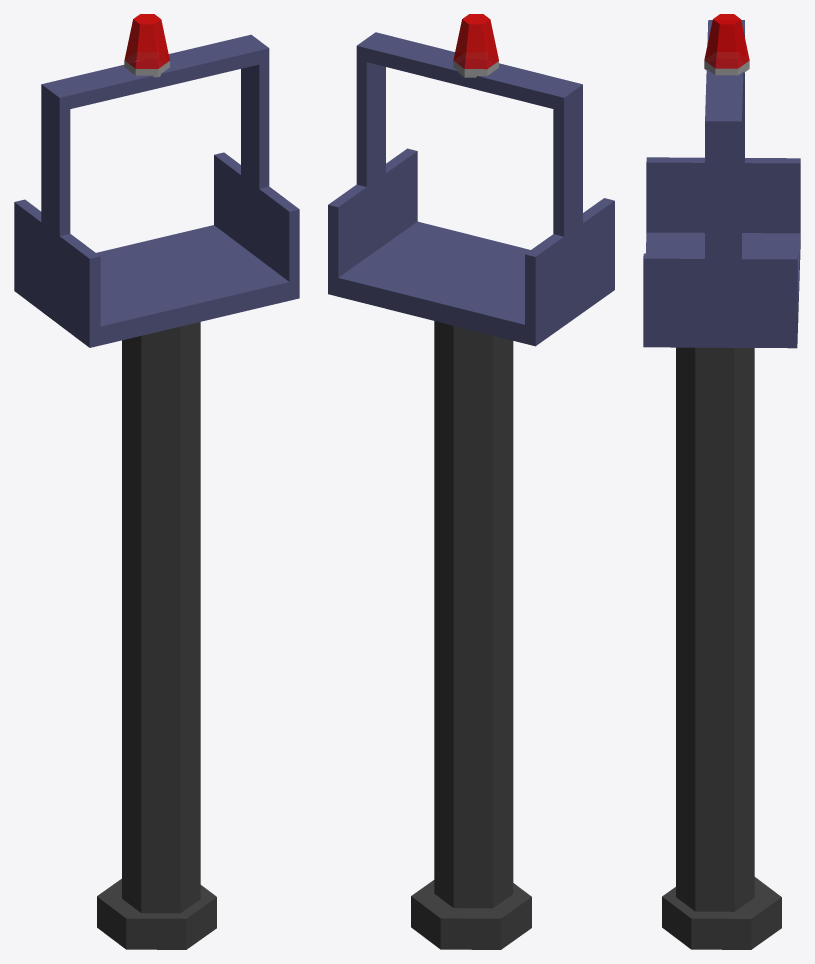
Rendered from Elevador_Mecanico.fbx.
The picture shows the model from 3 angles, left to right: view 1: azimuth 30°, elevation 25°; view 2: azimuth 150°, elevation 25°; view 3: azimuth 270°, elevation 25°; orthographic projection.
Parts seen in each view (by area): view 1: Level05_Elevator09, Level05_ElevatorBase08; view 2: Level05_Elevator09, Level05_ElevatorBase08; view 3: Level05_Elevator09, Level05_ElevatorBase08.
Boxes of the visible parts, left/top/right/bottom form: Level05_Elevator09: left=14, top=14, right=299, bottom=913; Level05_ElevatorBase08: left=97, top=878, right=216, bottom=949; Level05_Elevator09: left=328, top=14, right=614, bottom=908; Level05_ElevatorBase08: left=411, top=880, right=531, bottom=949; Level05_Elevator09: left=643, top=14, right=800, bottom=911; Level05_ElevatorBase08: left=662, top=877, right=781, bottom=949.
Bounding box in the file's own units: 127 × 526 × 82.71.
